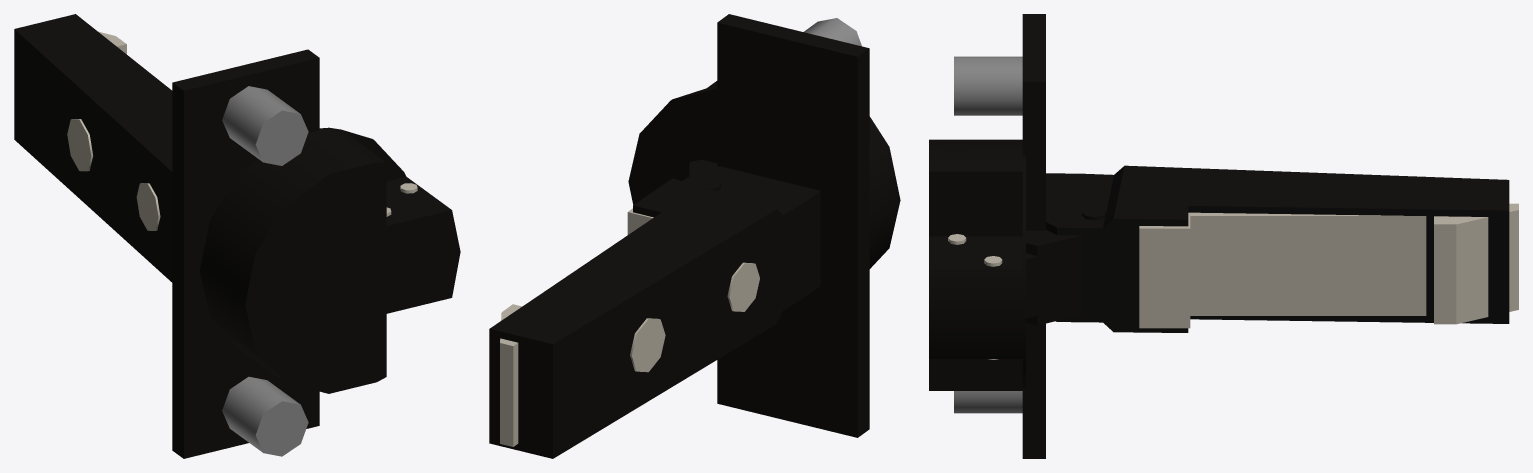
The picture shows the model from 3 angles, left to right: view 1: azimuth 30°, elevation 25°; view 2: azimuth 150°, elevation 25°; view 3: azimuth 270°, elevation 25°; orthographic projection. The views are drawn at different scales.
Visible parts, largest first — view 1: bau0015166285-1, bau0015166656-1; view 2: bau0015166285-1, bau0015166656-1, bau0019426112-1; view 3: bau0015166285-1, bau0019426112-1, bau0015166656-1, bau0015167363-1.
Boxes of the visible parts, x1=… form: bau0015166285-1: x1=172, y1=49, x2=460, y2=458; bau0015166656-1: x1=14, y1=14, x2=172, y2=282; bau0015166285-1: x1=628, y1=14, x2=900, y2=437; bau0015166656-1: x1=489, y1=166, x2=820, y2=458; bau0019426112-1: x1=500, y1=208, x2=653, y2=446; bau0015166285-1: x1=929, y1=14, x2=1045, y2=458; bau0019426112-1: x1=1139, y1=203, x2=1518, y2=328; bau0015166656-1: x1=1046, y1=165, x2=1509, y2=332; bau0015167363-1: x1=1026, y1=229, x2=1081, y2=325.
Size of the model in its own units: 37.46 by 57 by 80.8.
